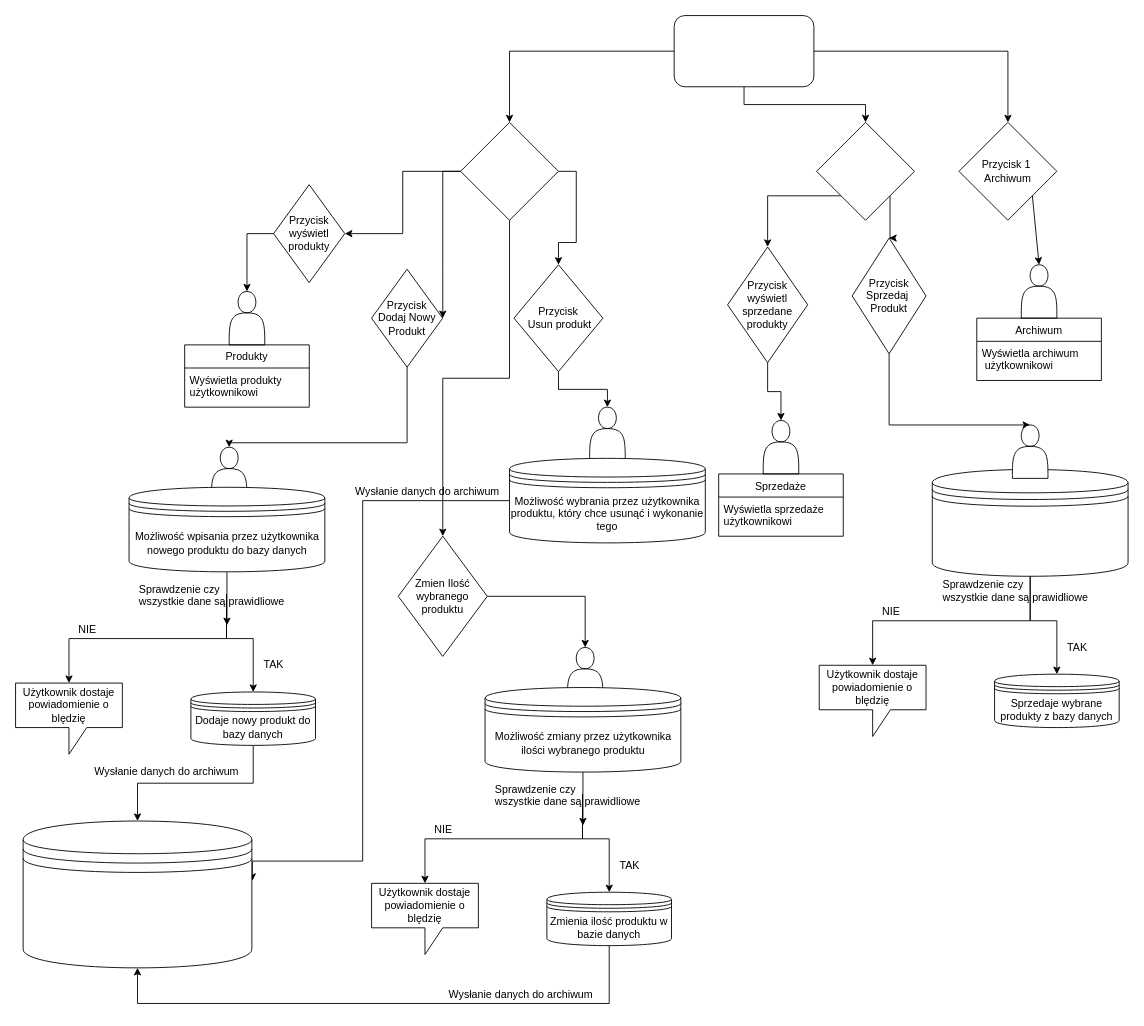
Some shapes in this 1144 by 1026 pixel diagram are drawn without their labels. Each missing label, with the centre of its shape:
"Automatycznie dodaje informacje do archiwum w bazie danych" goes at (137,894).
"Możliwość wybrania przez użytkownika przedmiotu do sprzedania z bazy danych" goes at (1029,522).
"Przycisk 1 Zarządzaj" goes at (509,170).
"Przycisk 2 Sprzedaże" goes at (865,170).
"STRONA GŁÓWNA" goes at (743,51).
